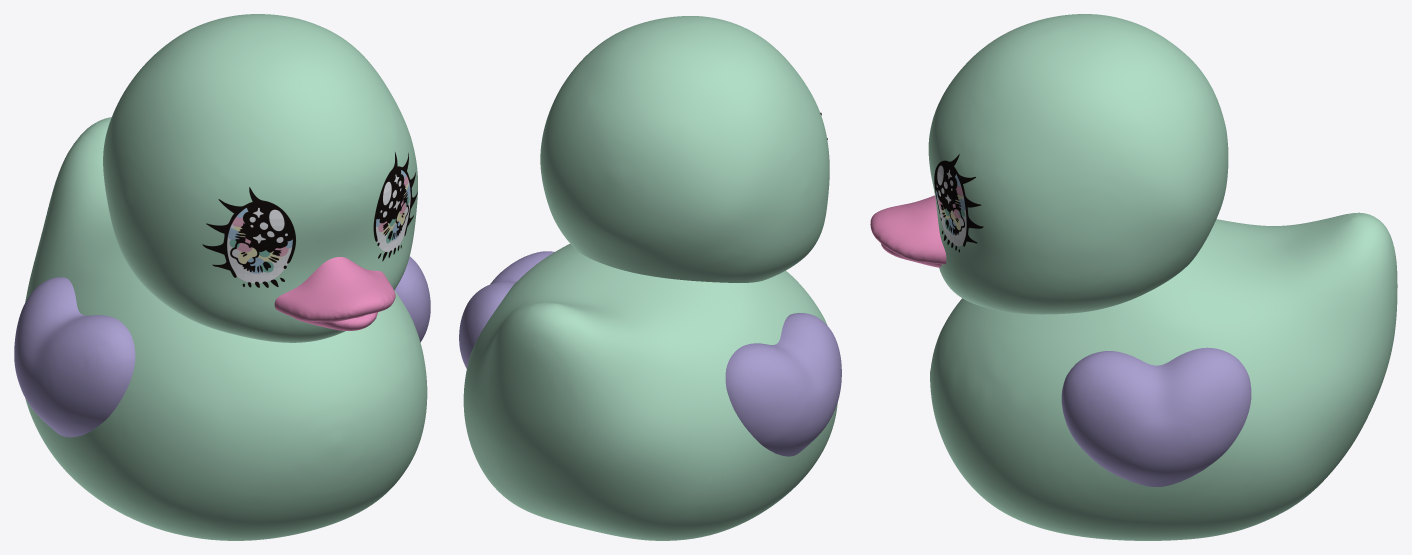
The picture shows the model from 3 angles, left to right: view 1: azimuth 30°, elevation 25°; view 2: azimuth 150°, elevation 25°; view 3: azimuth 270°, elevation 25°; orthographic projection. The views are drawn at different scales.
Visible parts, largest first — view 1: Torebi 5, Fix, Torebi 7, 平面.002, Torebi 3, Torebi 4; view 2: Torebi 5, Fix, Torebi 7, Torebi 4; view 3: Torebi 5, Fix, Torebi 4, Torebi 3, 平面.002.
Part boxes in pixels (left/top/right/bottom): Torebi 5: left=25, top=117, right=427, bottom=540; Fix: left=103, top=14, right=417, bottom=342; Torebi 7: left=14, top=277, right=135, bottom=437; 平面.002: left=202, top=152, right=417, bottom=287; Torebi 3: left=274, top=257, right=395, bottom=330; Torebi 4: left=395, top=256, right=430, bottom=342; Torebi 5: left=463, top=244, right=837, bottom=540; Fix: left=540, top=16, right=829, bottom=282; Torebi 7: left=725, top=313, right=841, bottom=456; Torebi 4: left=459, top=251, right=554, bottom=368; Torebi 5: left=930, top=212, right=1397, bottom=540; Fix: left=928, top=14, right=1228, bottom=314; Torebi 4: left=1061, top=347, right=1251, bottom=486; Torebi 3: left=870, top=195, right=946, bottom=267; 平面.002: left=934, top=154, right=983, bottom=252.
Bounding box in the file's own units: 50.64 × 60.08 × 62.26.
5 materials, 1 textured.
